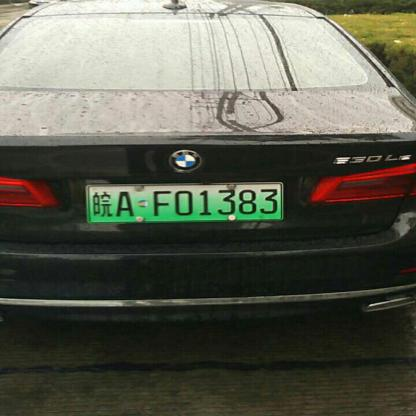lp: (88, 183, 282, 222)
